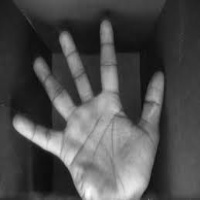ring: (29, 49, 78, 121)
